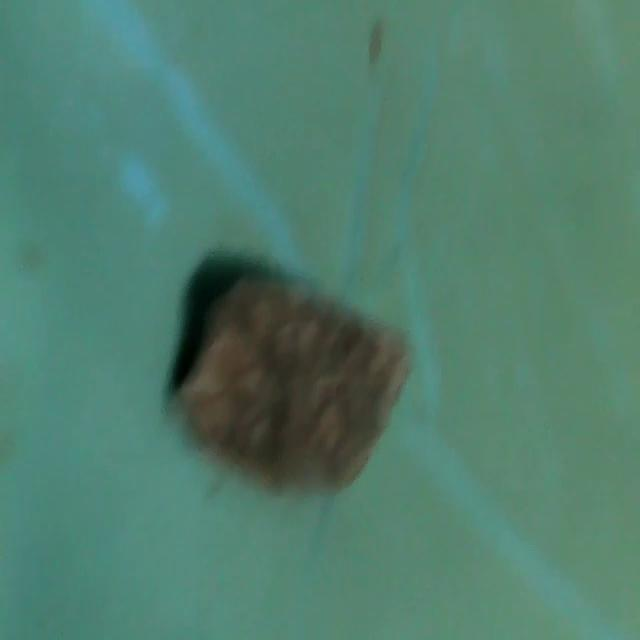rock: (152, 252, 425, 509)
